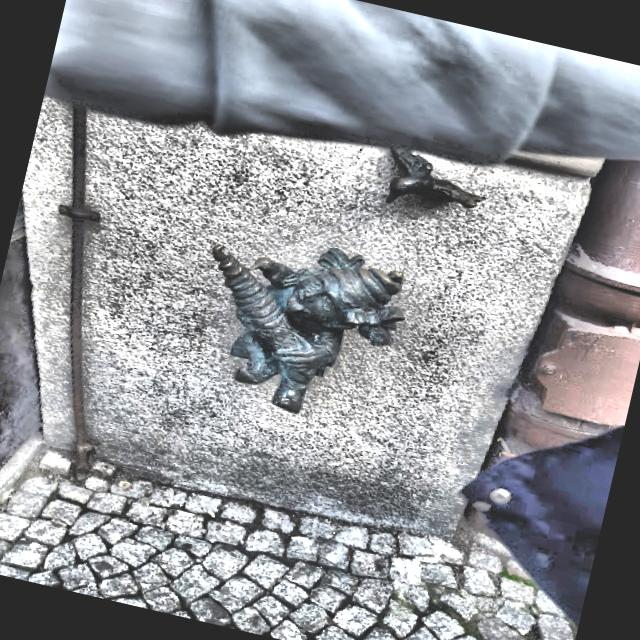Dziupelka: (211, 246, 403, 415), (387, 149, 482, 208)
